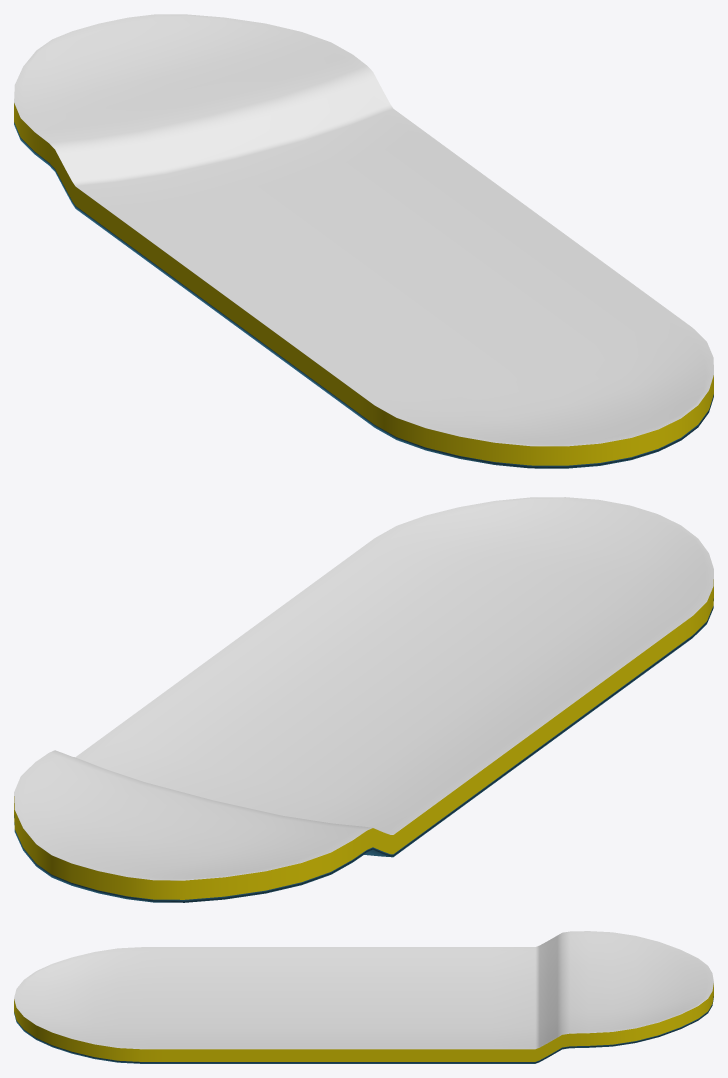
The model's file is Hoverboard Model.fbx.
3 views of the same model, one above another, from view 1: azimuth 30°, elevation 25°; view 2: azimuth 150°, elevation 25°; view 3: azimuth 270°, elevation 25° (orthographic). The views are drawn at different scales.
Parts seen in each view (by area): view 1: hoverboardSmoothed; view 2: hoverboardSmoothed; view 3: hoverboardSmoothed.
Boxes of the visible parts, box(x1,y1,x2,y2) form: hoverboardSmoothed: box(14, 14, 713, 468); hoverboardSmoothed: box(14, 497, 713, 902); hoverboardSmoothed: box(14, 931, 713, 1063).
Bounding box in the file's own units: 53.35 × 9.48 × 155.
